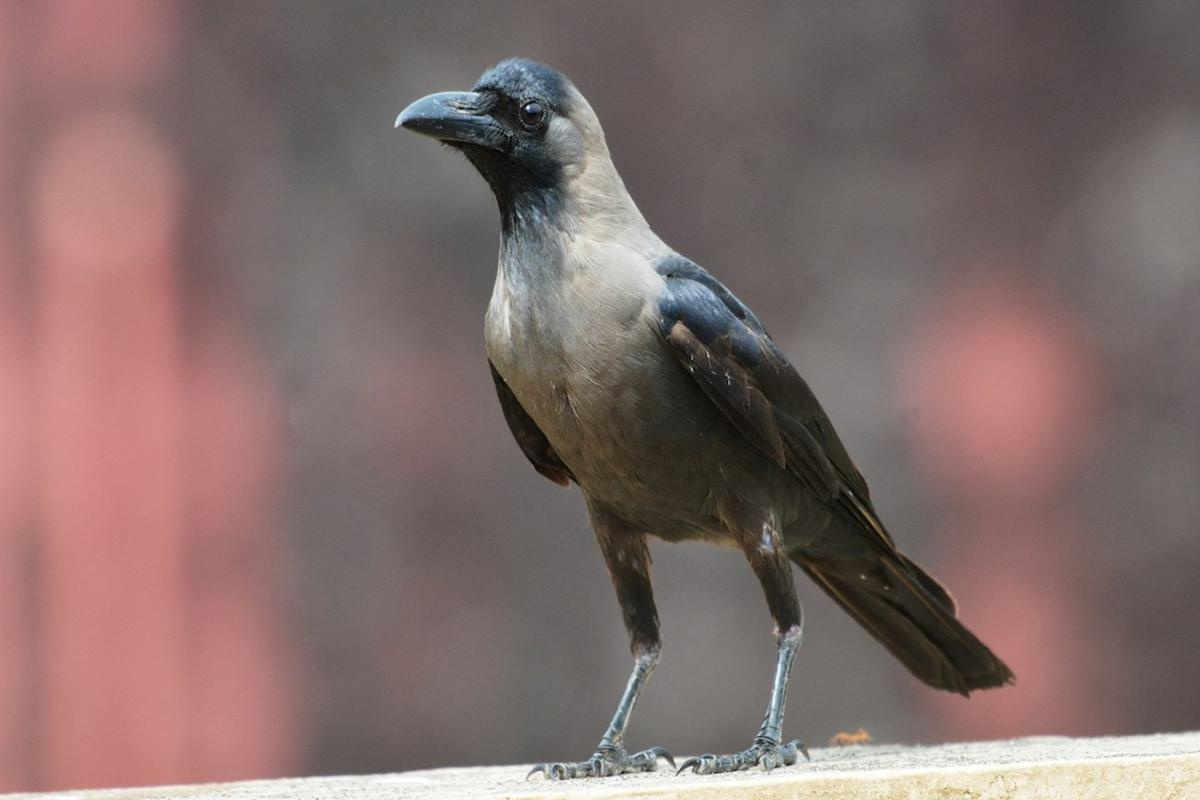crow: (378, 52, 1023, 783)
